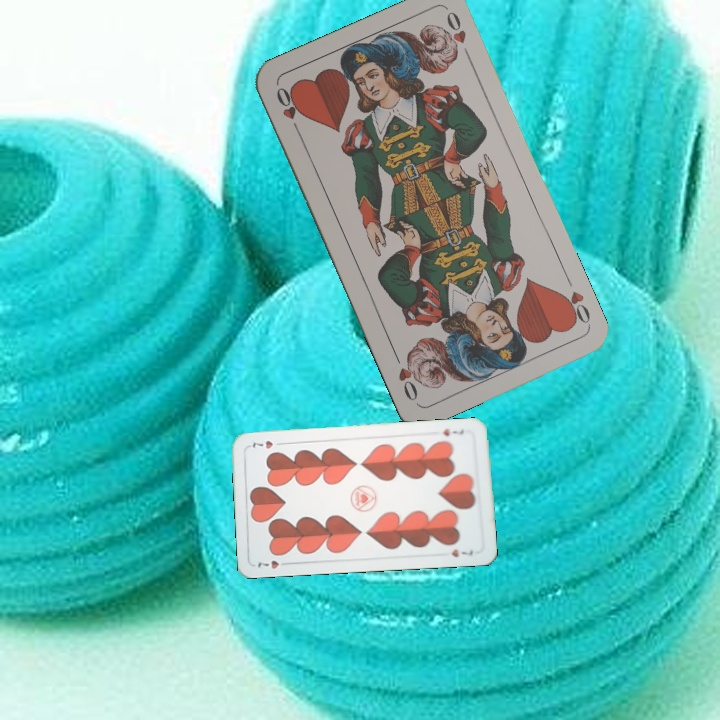H7: (254, 556, 293, 571), (439, 425, 466, 439)
HO: (272, 83, 304, 138), (556, 287, 593, 328)
